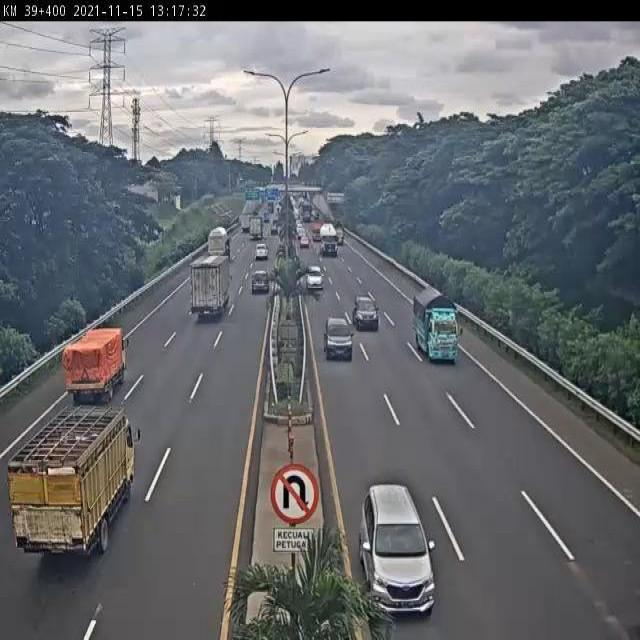car: (323, 318, 354, 362), (351, 296, 379, 331), (249, 268, 271, 297), (305, 267, 325, 292)
truck-l-: (187, 253, 231, 319)
truck-m-: (7, 407, 136, 557), (61, 327, 127, 400), (412, 287, 463, 365)
